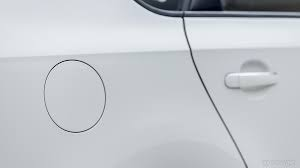closed: (40, 55, 109, 134)
